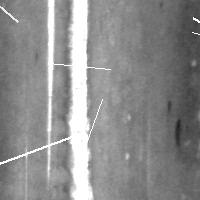scratches: (64, 1, 92, 200), (0, 131, 78, 170), (45, 1, 58, 184), (75, 94, 107, 165), (43, 58, 115, 74), (0, 0, 23, 27), (172, 116, 185, 150), (188, 13, 200, 45), (187, 27, 200, 56)
